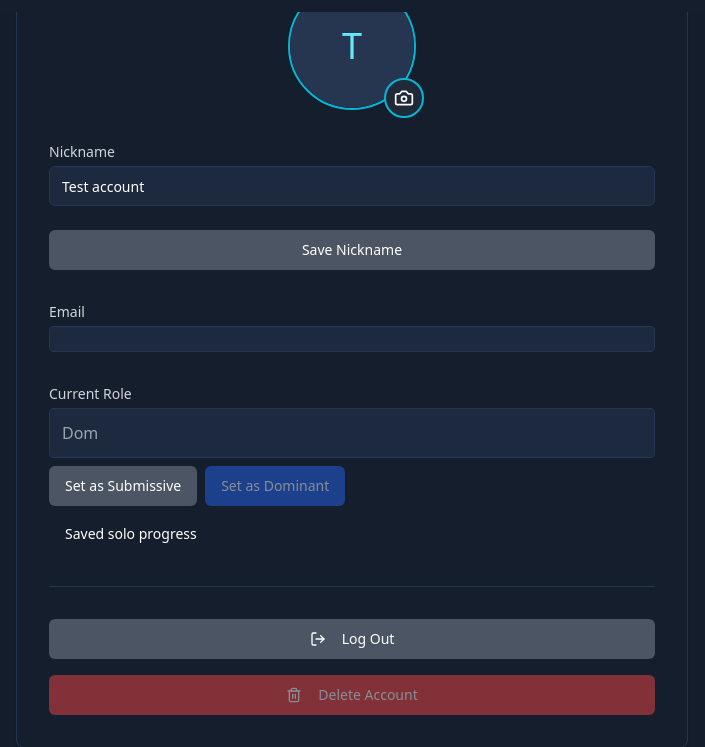
actual Profile role chooser › preserves pending progress outside Profile across a provider-style unmount, with no early success claim
Later steps or results of the test are not shown.
(page scrolled)
Click the button "Set as Submissive": (123, 486) [49,466,197,506]
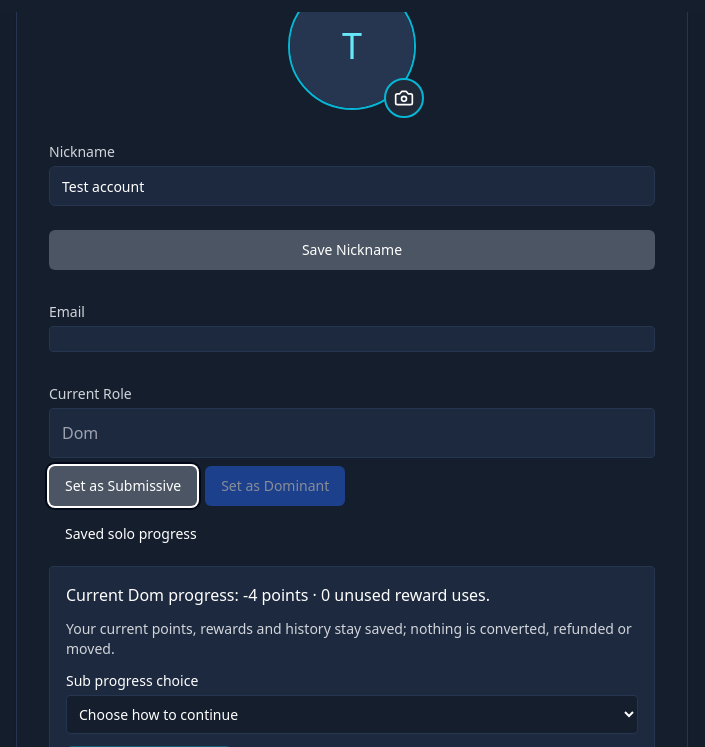
Expected: the text "Current Dom progress: -4 points · 0 unused reward uses." is shown, [66,584,490,606]
Select "Start this role fresh" in the dropdown labelled "Sub progress choice": (352, 714) [66,695,638,734]
(page scrolled)
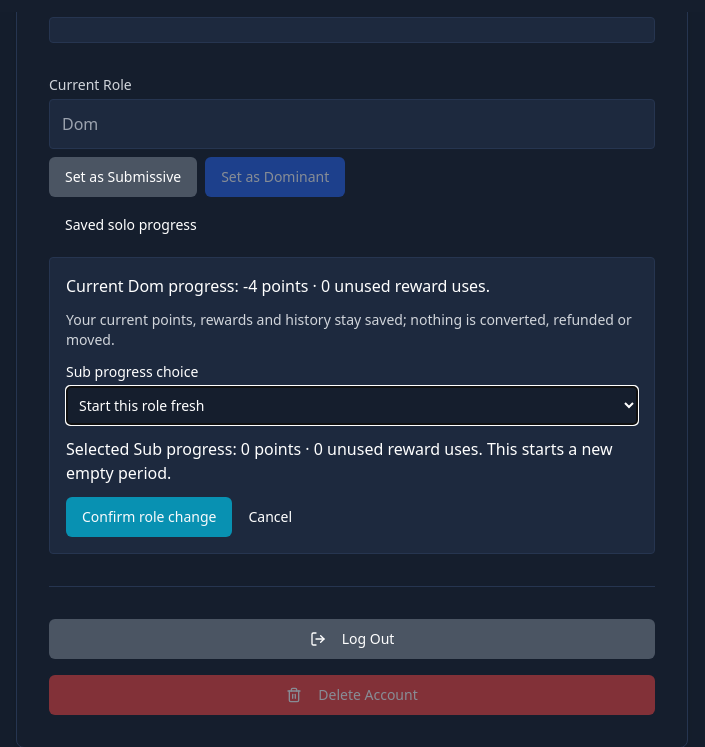
Click the button "Confirm role change": (149, 517) [66,497,232,537]
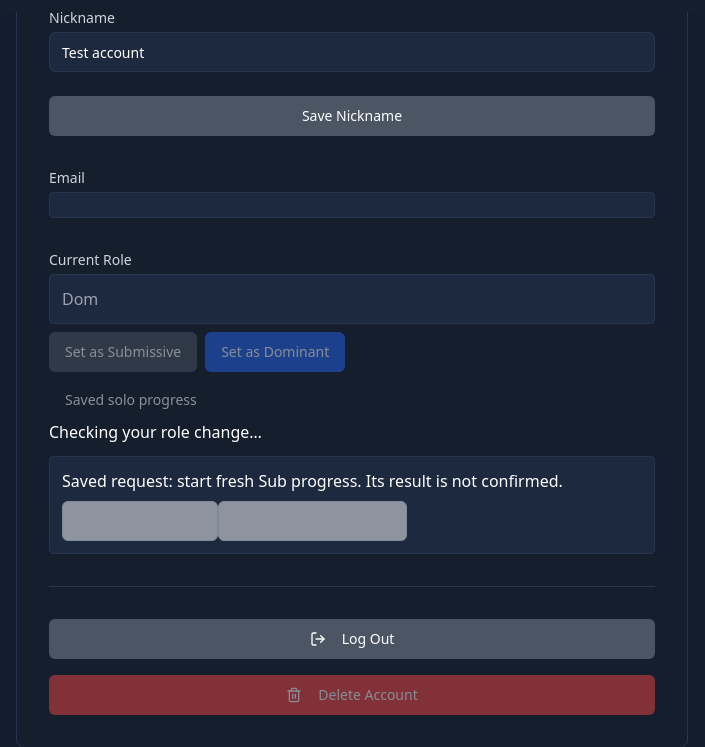
Expected: the text "Its result is not confirmed" is shown, [287,470,563,492]
